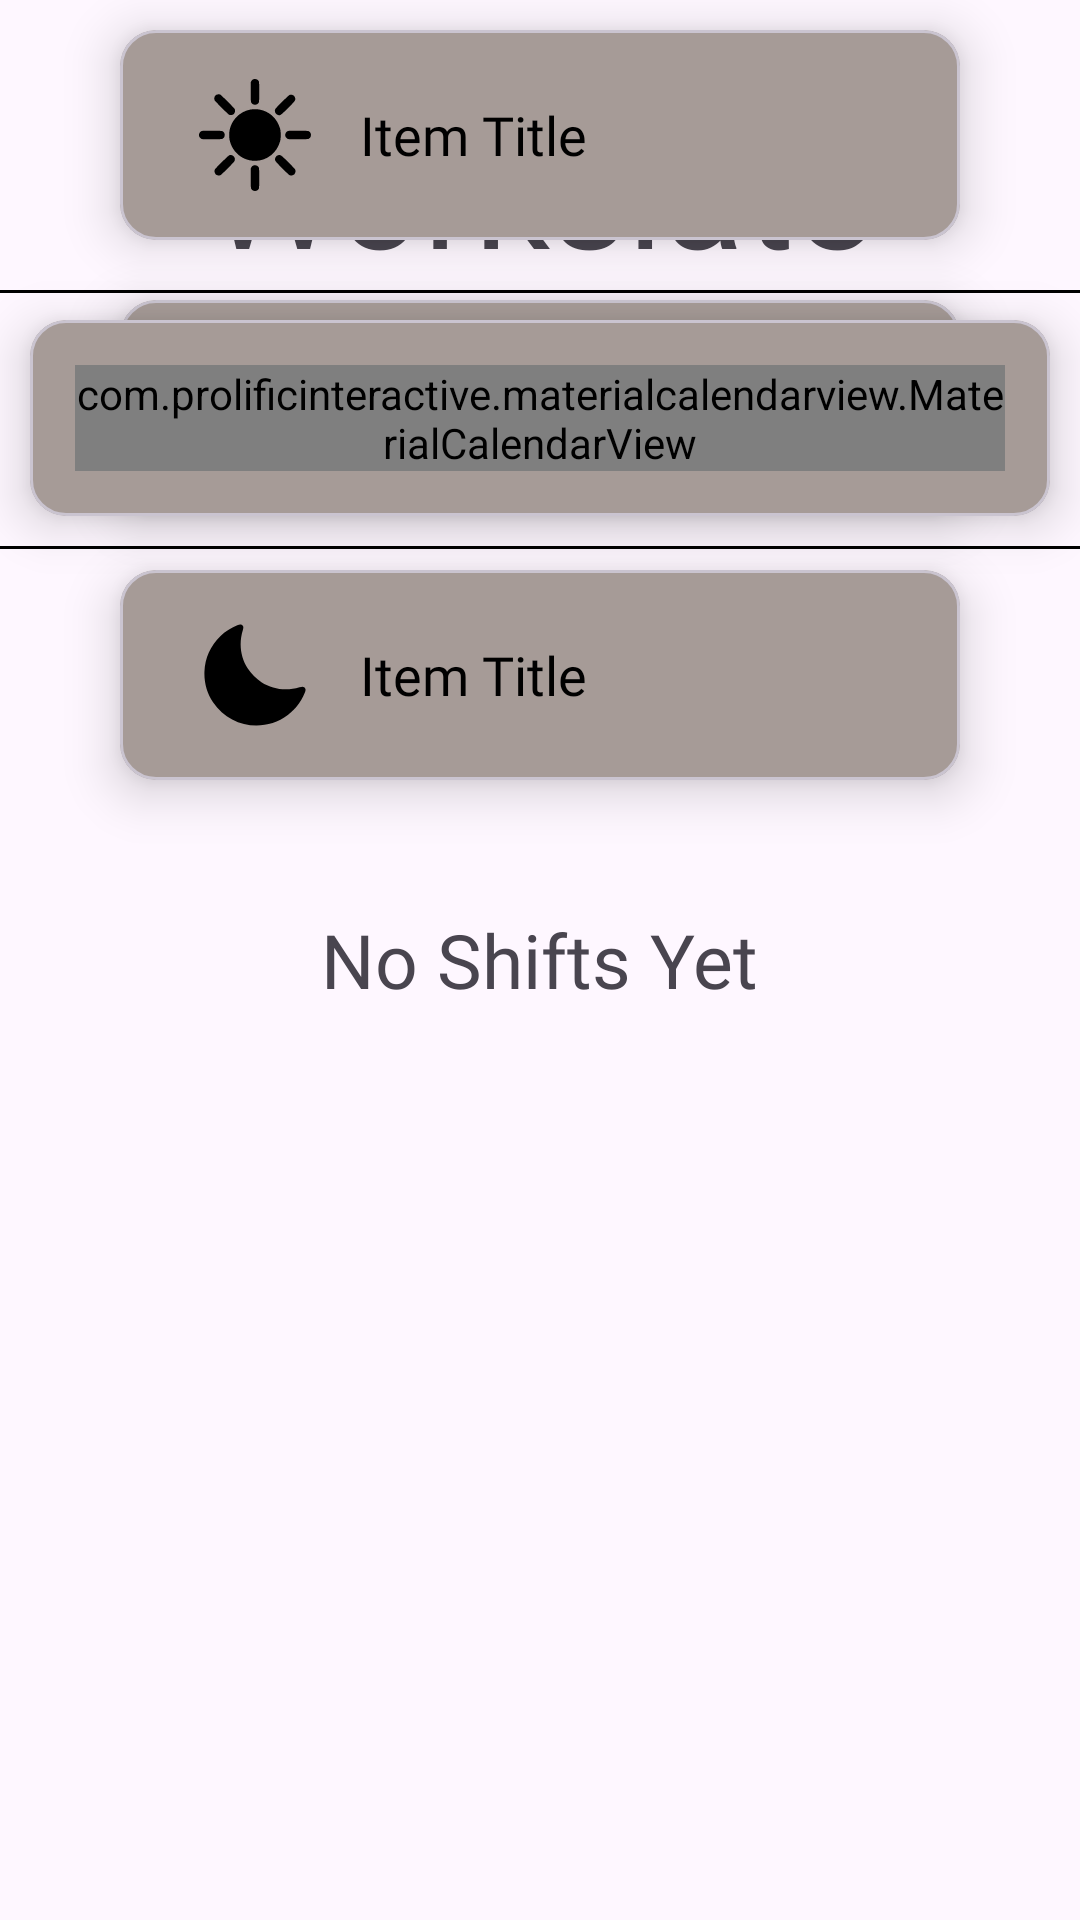

Icon bounding boxes for this 1080 × 1920 phone screenshot, format (x1, y1, x2, y2):
morning: (199, 79, 311, 191)
night: (204, 624, 306, 726)
